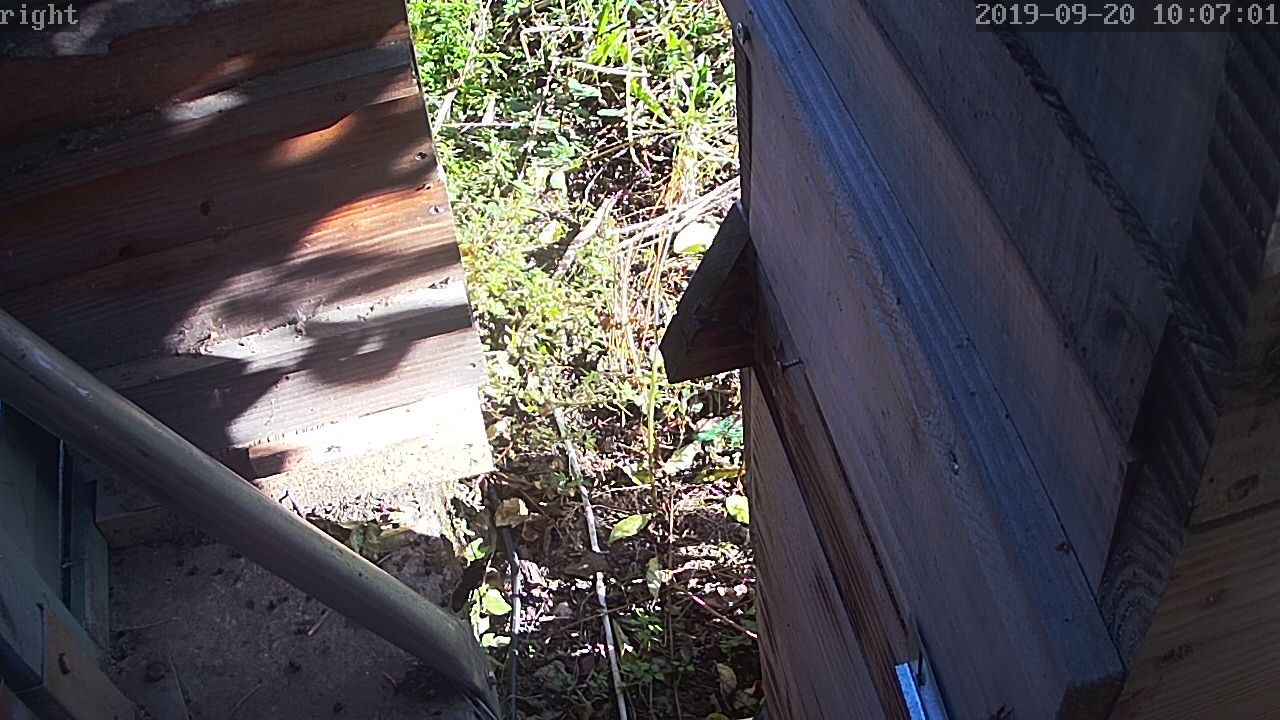hornet: (448, 551, 494, 615)
